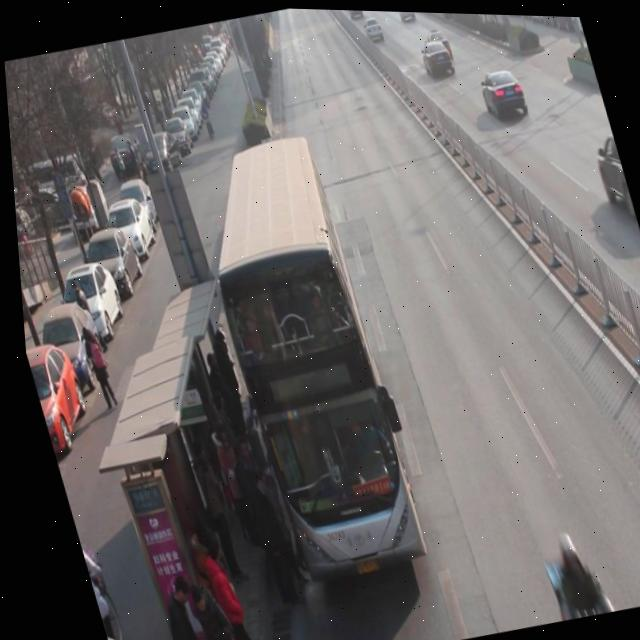car: (475, 61, 530, 122), (416, 34, 457, 80), (422, 21, 455, 63), (360, 12, 387, 45), (344, 8, 365, 19)
truck: (394, 9, 418, 23)
van: (178, 134, 421, 580)
